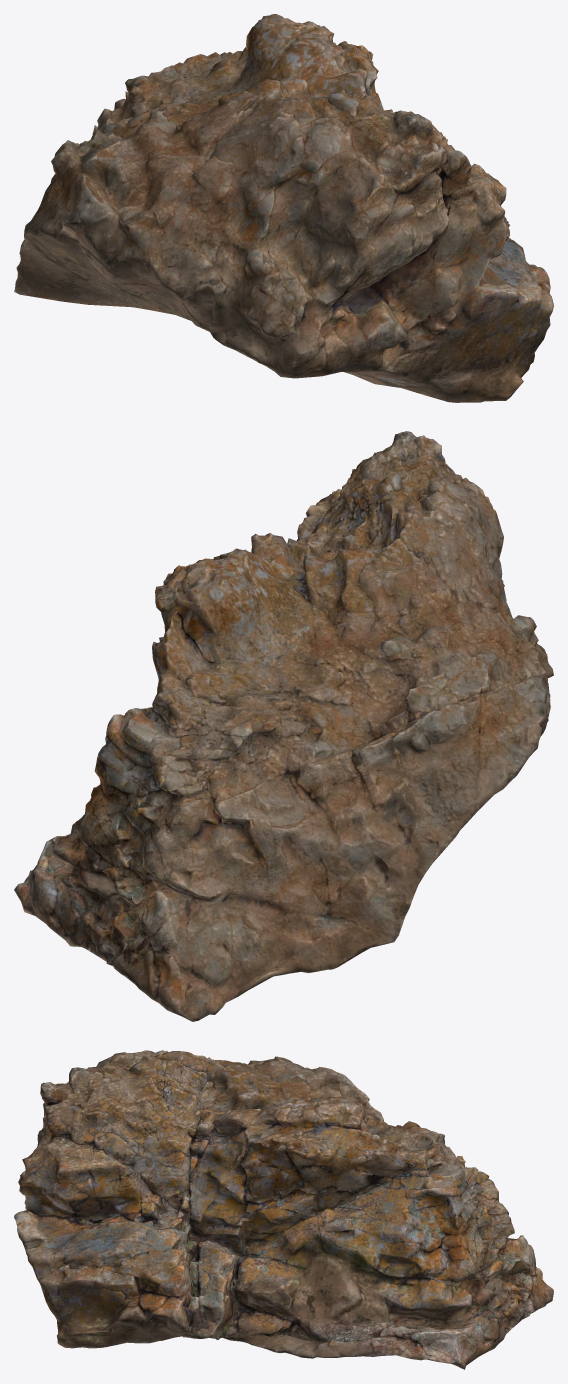
Rendered from boulder_01.glb.
3 views of the same model, one above another, from view 1: azimuth 30°, elevation 25°; view 2: azimuth 150°, elevation 25°; view 3: azimuth 270°, elevation 25° (orthographic). The views are drawn at different scales.
Visible parts, largest first — view 1: boulder_01_lod0; view 2: boulder_01_lod0; view 3: boulder_01_lod0.
Boxes of the visible parts, x1,y1,x2,y2 form: boulder_01_lod0: (14, 14, 553, 402); boulder_01_lod0: (14, 431, 553, 1021); boulder_01_lod0: (14, 1050, 553, 1369).
Size of what is drawn, in the model's own units: 1.27 by 1 by 1.83.
1 material, 1 textured.
